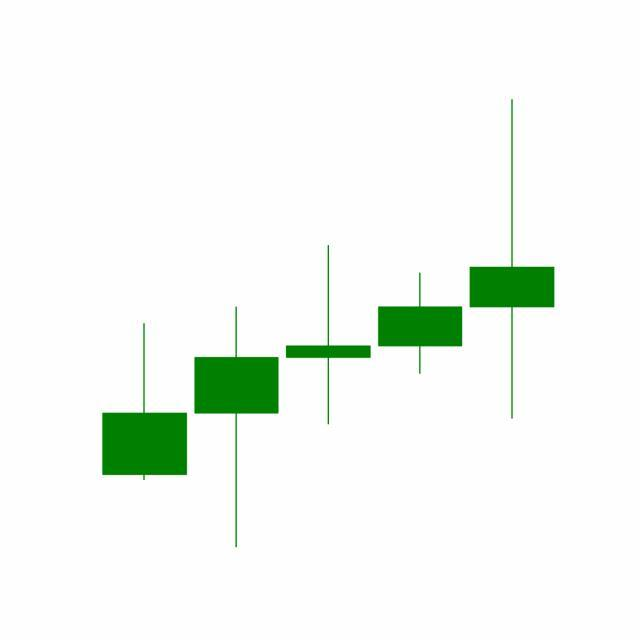Spinning Top: (466, 96, 559, 423)
